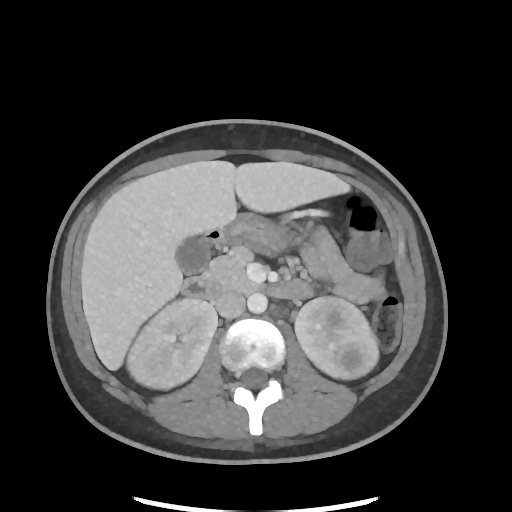Lesion: (336, 342, 373, 378)
